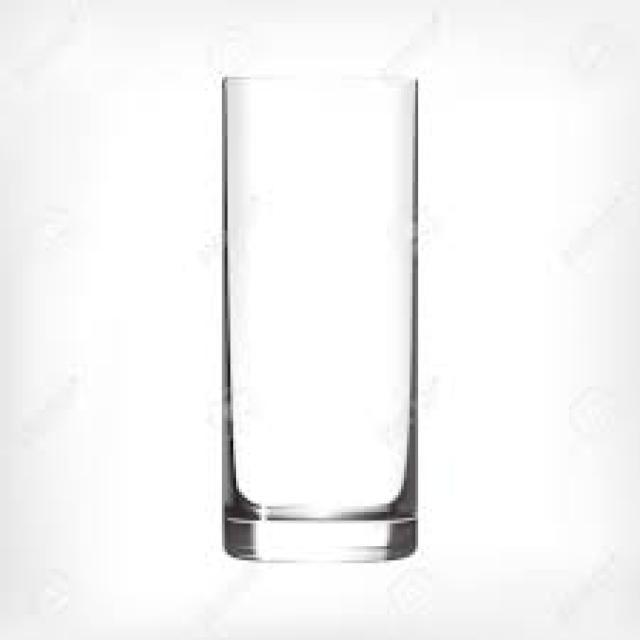Glass: (218, 71, 416, 564)
